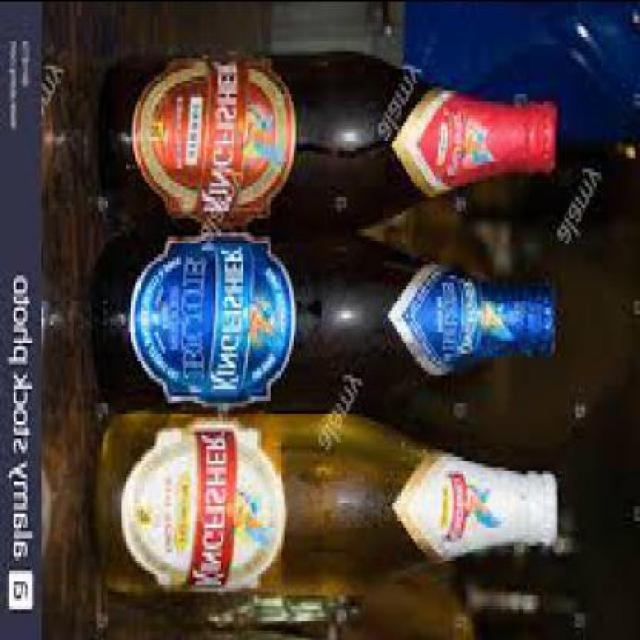GLASS: (98, 412, 560, 597), (101, 53, 559, 232), (96, 238, 558, 412)
